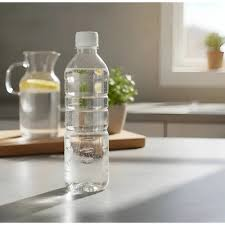Botella: (65, 32, 108, 193)
